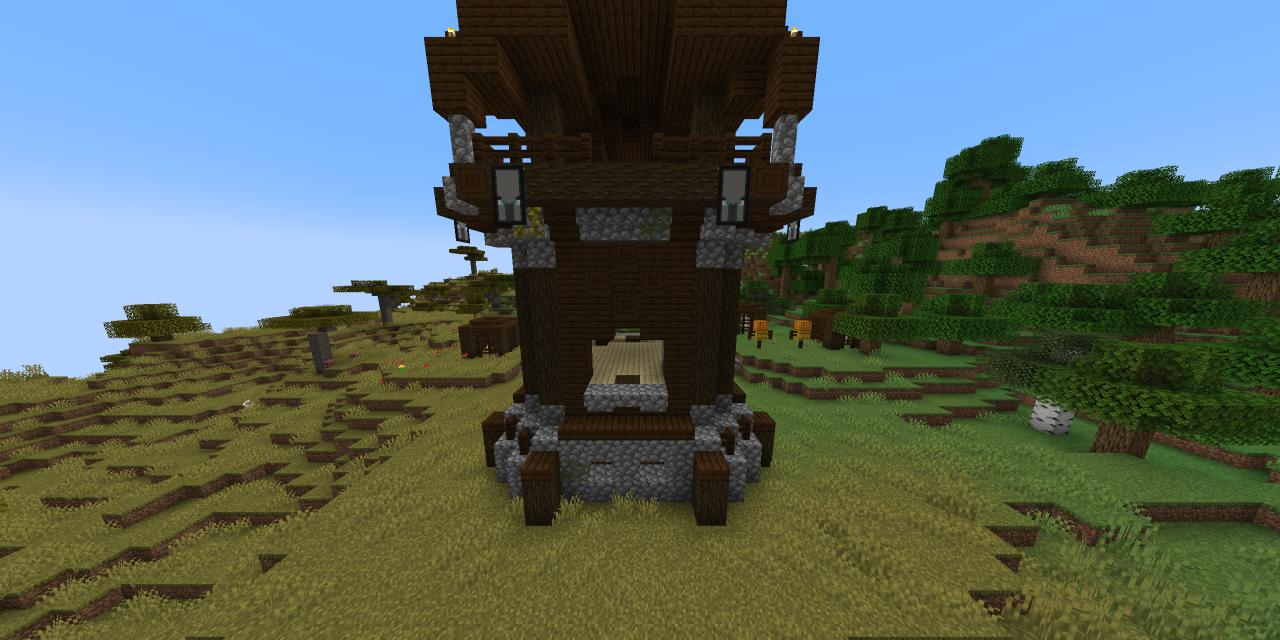pillager outpost: (413, 0, 824, 539)
